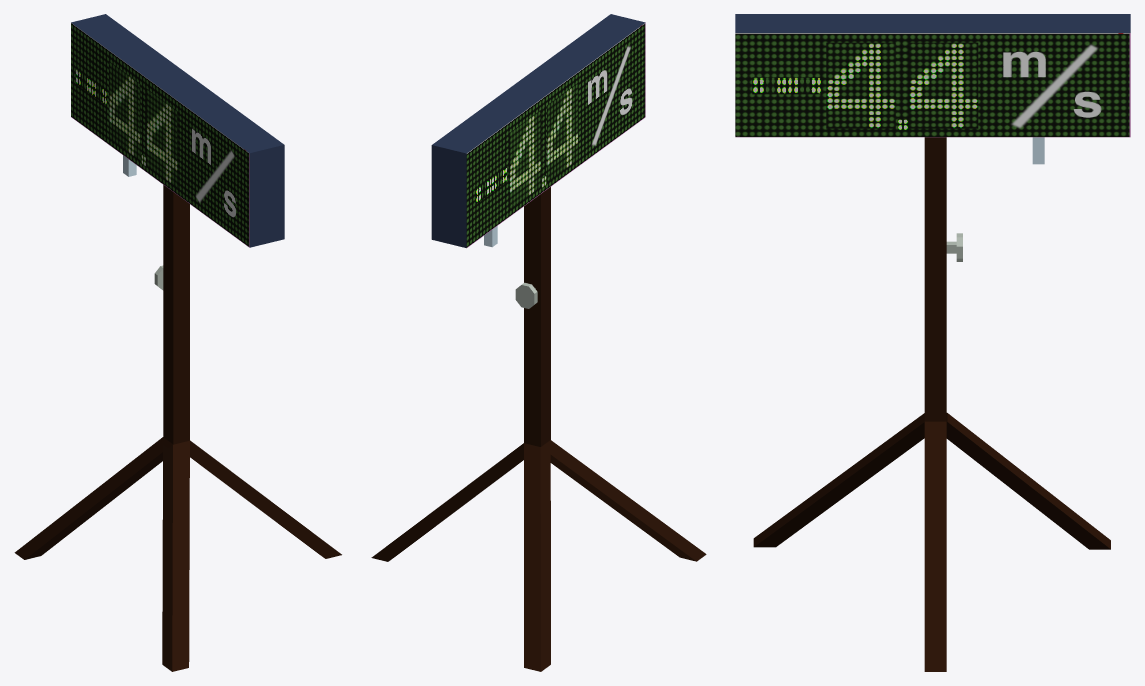
File: Wind_meter__.FBX
3 views of the same model, side by side, from view 1: azimuth 30°, elevation 25°; view 2: azimuth 150°, elevation 25°; view 3: azimuth 270°, elevation 25° (orthographic). The views are drawn at different scales.
Parts seen in each view (by area): view 1: Wind_meter, Wind_meter_numbers; view 2: Wind_meter, Wind_meter_numbers; view 3: Wind_meter, Wind_meter_numbers.
Boxes of the visible parts, x1,y1,x2,y2 form: Wind_meter: (14, 14, 341, 671); Wind_meter_numbers: (75, 61, 177, 188); Wind_meter: (371, 14, 706, 671); Wind_meter_numbers: (476, 83, 578, 210); Wind_meter: (735, 14, 1130, 671); Wind_meter_numbers: (752, 42, 978, 130).
Bounding box in the file's own units: 8.7 × 17.05 × 10.87.
